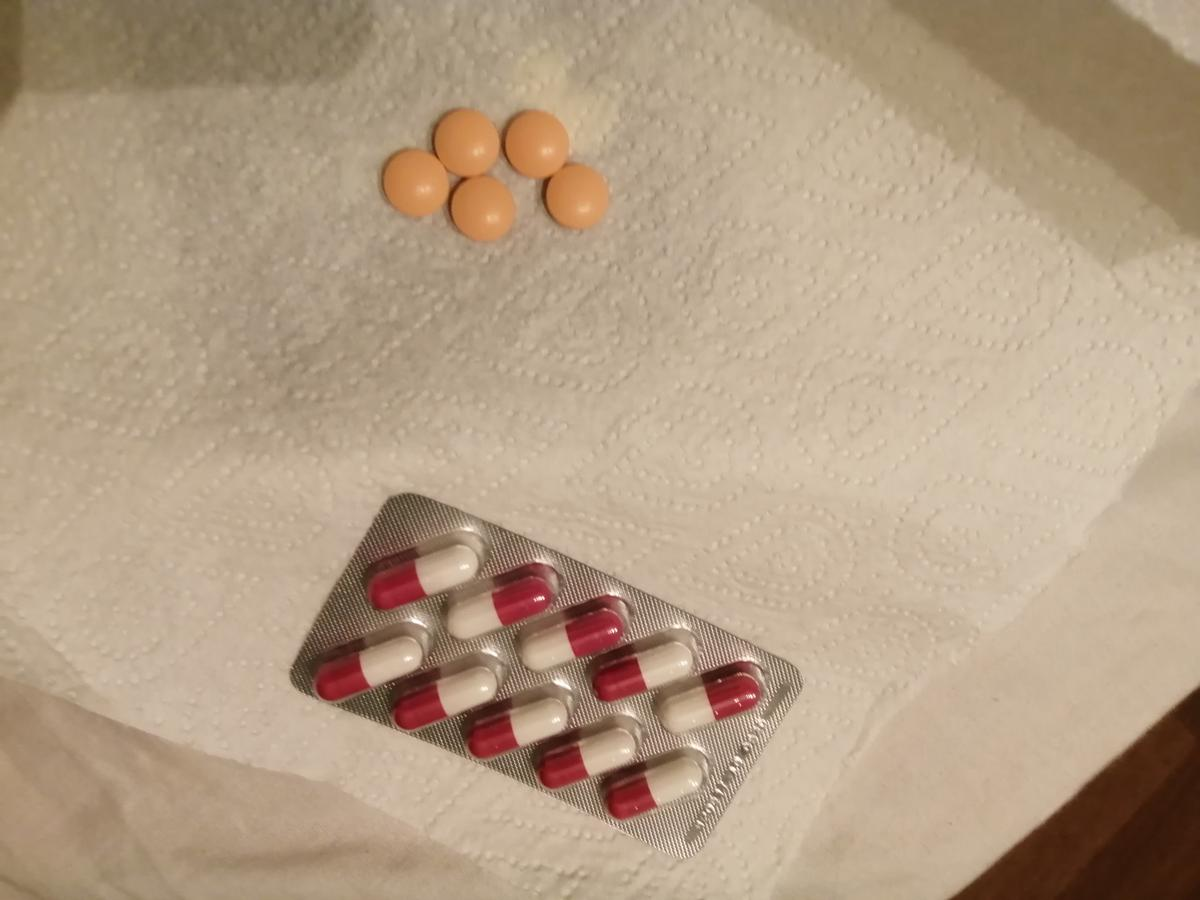capsule: (363, 539, 480, 613), (312, 628, 428, 700), (396, 660, 498, 734), (518, 605, 630, 671), (605, 750, 711, 818), (446, 572, 550, 640), (593, 634, 695, 700), (539, 726, 639, 793), (464, 694, 566, 757), (662, 670, 761, 734)
tablet: (432, 104, 501, 177), (450, 174, 520, 241), (502, 108, 567, 179), (380, 147, 448, 214), (543, 164, 611, 231)
